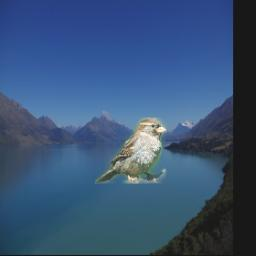Sparrow: (95, 119, 166, 185)
